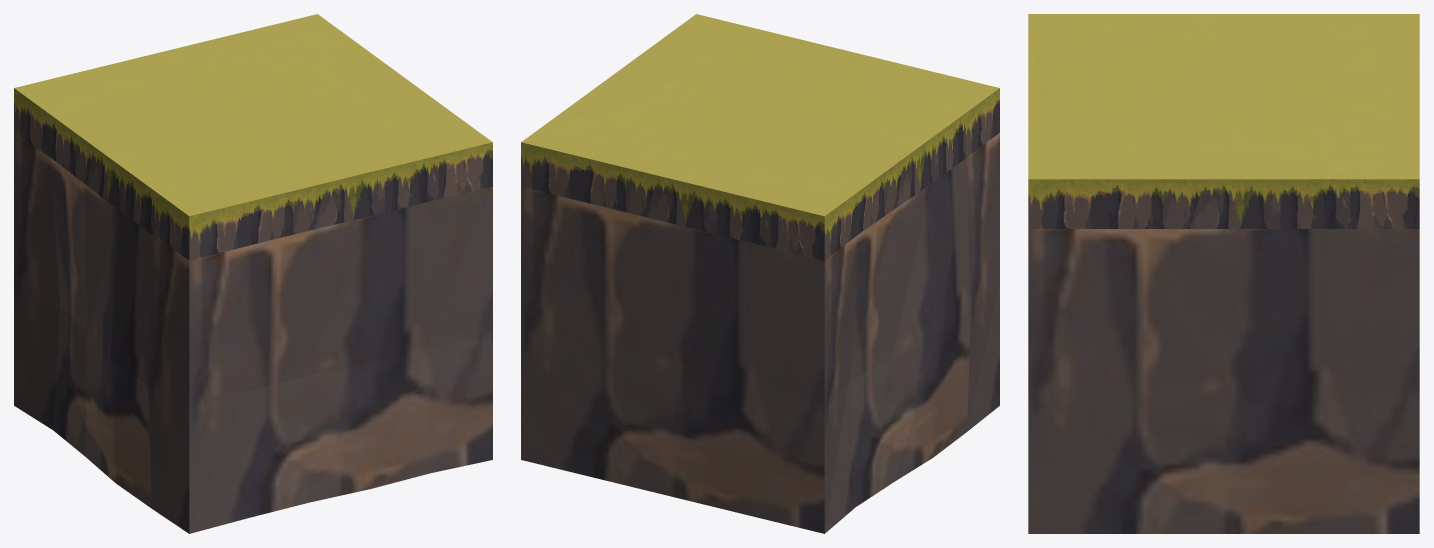
The model's file is SM_RC_Terrain_IslandEdge_OuterCorner_8m.gltf.
The picture shows the model from 3 angles, left to right: view 1: azimuth 30°, elevation 25°; view 2: azimuth 150°, elevation 25°; view 3: azimuth 270°, elevation 25°; orthographic projection. The views are drawn at different scales.
Visible parts, largest first — view 1: SM_RC_Terrain_IslandEdge_OuterCorner_8m; view 2: SM_RC_Terrain_IslandEdge_OuterCorner_8m; view 3: SM_RC_Terrain_IslandEdge_OuterCorner_8m.
Part boxes in pixels (x1,y1,x2,y2): SM_RC_Terrain_IslandEdge_OuterCorner_8m: (14, 14, 492, 533); SM_RC_Terrain_IslandEdge_OuterCorner_8m: (521, 14, 999, 533); SM_RC_Terrain_IslandEdge_OuterCorner_8m: (1028, 14, 1419, 533).
Size of the model in its own units: 8.23 by 8 by 8.
1 material, 1 textured.
